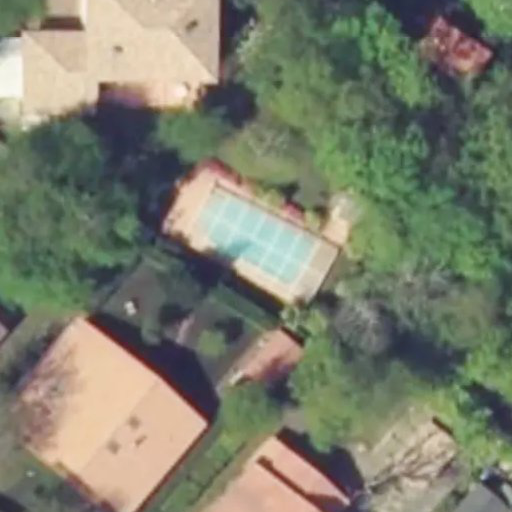pool: (188, 232, 314, 244)
